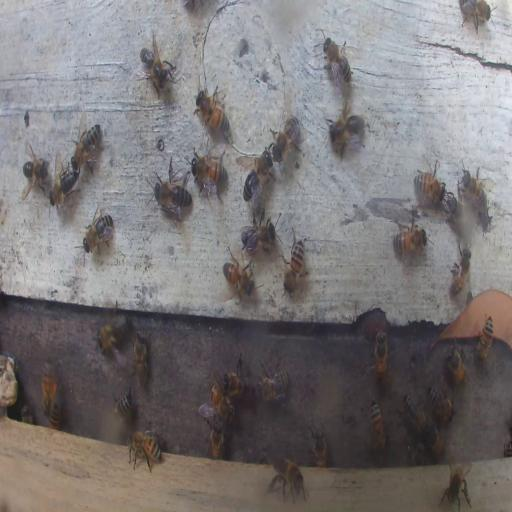bee: (138, 34, 178, 94), (152, 161, 192, 220), (328, 99, 368, 155), (264, 454, 306, 503), (195, 81, 230, 135), (243, 143, 274, 203), (71, 120, 102, 176), (457, 161, 489, 215), (320, 34, 352, 88), (270, 110, 301, 165), (441, 460, 473, 512), (21, 142, 48, 200), (49, 158, 79, 209), (283, 229, 306, 293), (82, 208, 114, 254), (127, 430, 162, 472), (392, 214, 427, 256), (191, 149, 225, 191), (256, 360, 289, 402), (222, 255, 253, 299), (241, 216, 276, 254), (413, 164, 446, 202), (400, 393, 428, 437), (448, 194, 474, 241), (459, 0, 494, 34), (96, 319, 124, 361), (450, 244, 472, 296), (427, 384, 455, 424), (368, 399, 388, 453), (223, 359, 252, 396), (132, 329, 150, 387), (41, 359, 58, 418), (209, 382, 233, 422), (422, 422, 446, 458), (476, 316, 494, 363), (445, 347, 467, 384), (374, 329, 388, 383), (206, 420, 224, 458), (311, 425, 327, 467), (113, 386, 133, 419), (406, 440, 426, 464), (48, 402, 60, 428), (21, 405, 35, 422)
